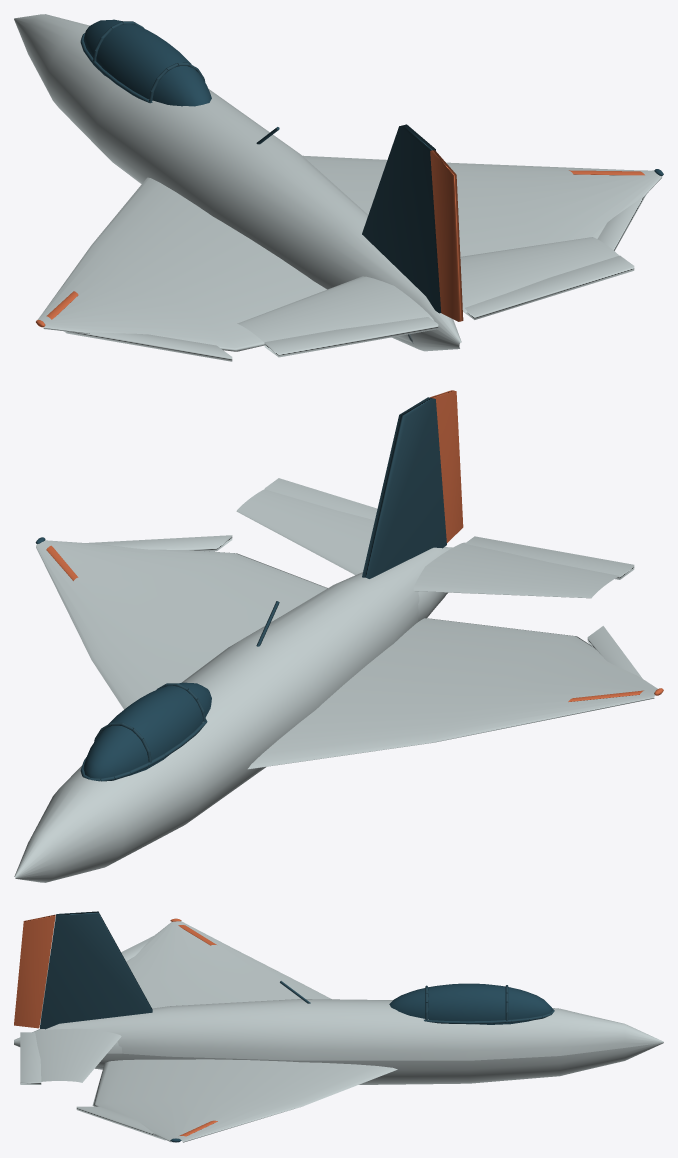
Rendered from player-dart-hero-v1.glb.
3 renders of one model, top to bottom at view 1: azimuth 30°, elevation 25°; view 2: azimuth 150°, elevation 25°; view 3: azimuth 270°, elevation 25°, orthographic. The views are drawn at different scales.
Visible parts, largest first — view 1: hull, trim, glass, rudder, elevator-right, elevator-left, aileron-left, aileron-right, accent; view 2: hull, trim, glass, rudder, elevator-left, elevator-right, aileron-right, aileron-left; view 3: hull, trim, glass, rudder, elevator-right, aileron-right, accent.
Boxes of the visible parts, x1,y1,x2,y2 form: hull: (14,14,661,351); trim: (80,21,441,313); glass: (83,19,663,176); rudder: (430,150,463,321); elevator-right: (463,255,634,319); elevator-left: (264,317,438,357); aileron-left: (64,331,232,361); aileron-right: (597,194,646,250); accent: (36,170,644,327); hull: (14,489,657,882); trim: (80,397,446,781); glass: (35,537,211,778); rudder: (430,390,463,542); elevator-left: (465,536,634,579); elevator-right: (264,478,377,520); aileron-right: (87,535,232,551); aileron-left: (587,626,642,678); hull: (14,921,663,1142); trim: (40,911,554,1029); glass: (170,983,552,1142); rudder: (14,914,55,1028); elevator-right: (20,1032,41,1084); aileron-right: (76,1106,165,1140); accent: (170,918,217,1136).
Size of the model in its own units: 9.7 by 3.44 by 12.
